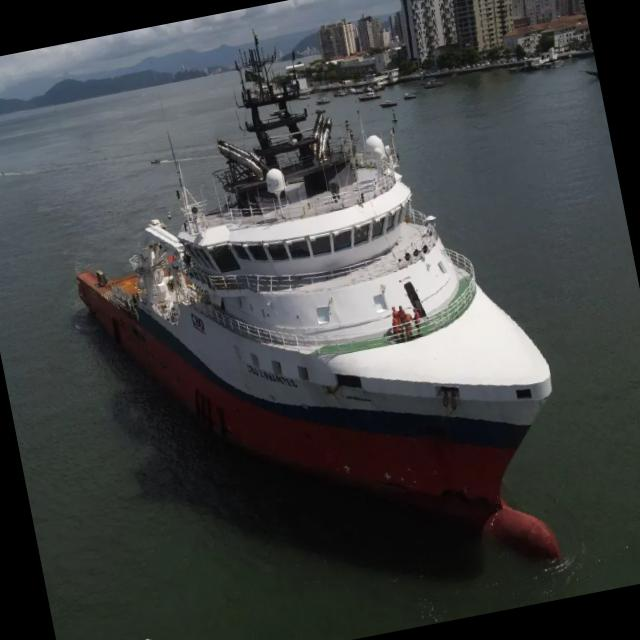Offshore: (77, 38, 558, 557)
